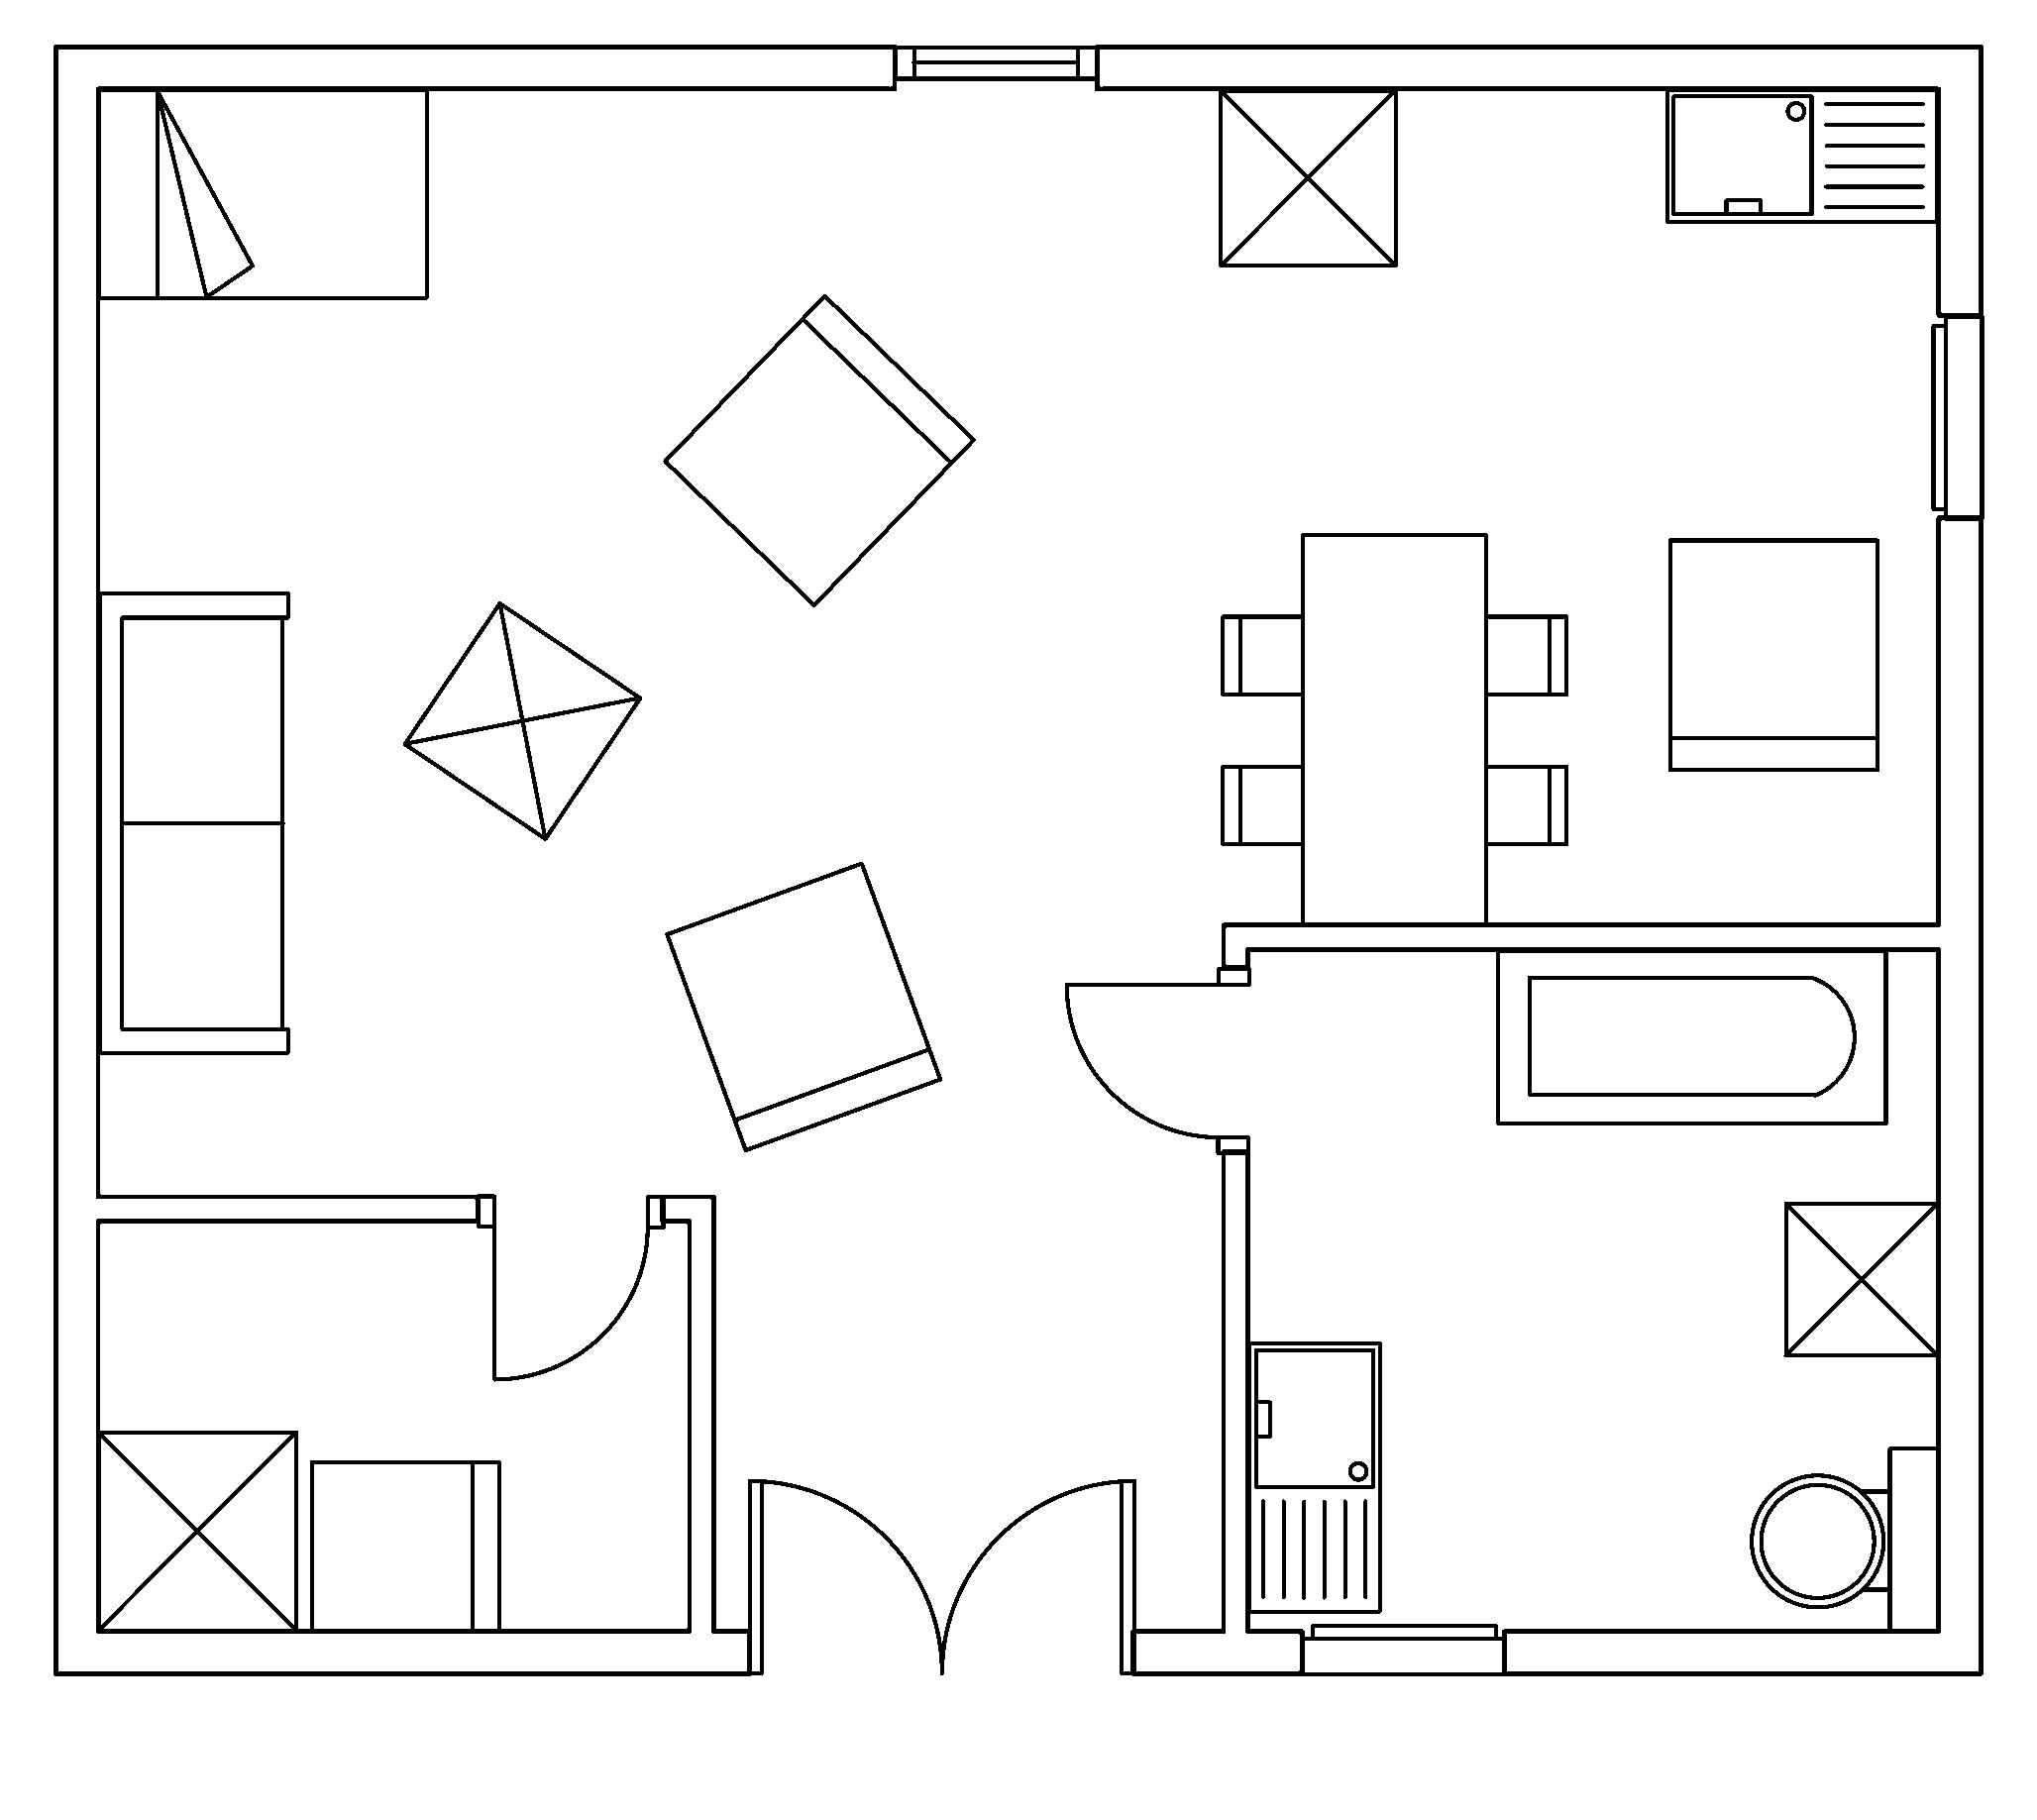bed: (95, 86, 428, 300)
coffee_table: (402, 599, 643, 841), (95, 1428, 299, 1632), (1217, 86, 1398, 267), (1781, 1200, 1940, 1358)
dining_table: (1219, 531, 1568, 926)
large_sink: (1749, 1444, 1940, 1632)
large_sofa: (95, 590, 290, 1056)
sink: (1663, 86, 1940, 223), (1245, 1339, 1382, 1614)
small_sofa: (660, 292, 976, 608), (662, 859, 943, 1152), (1666, 536, 1879, 771), (307, 1458, 500, 1632)
tub: (1494, 947, 1888, 1126)
